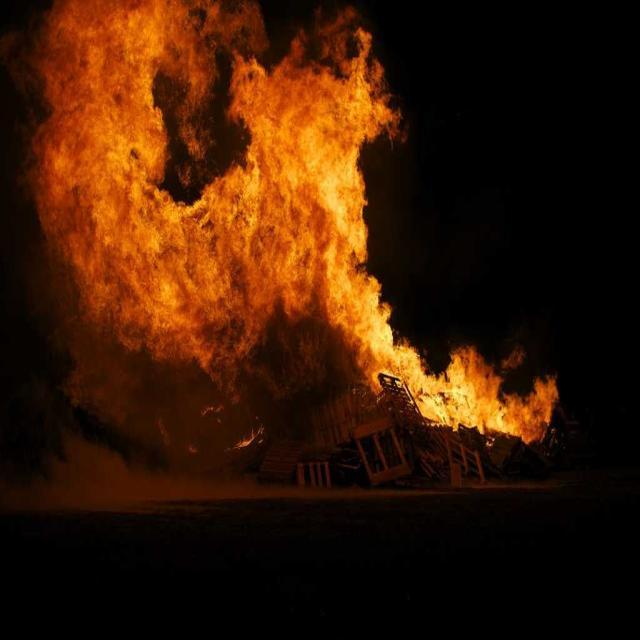Fire: (62, 1, 158, 258), (255, 95, 351, 300), (165, 209, 242, 336), (454, 364, 489, 422)
